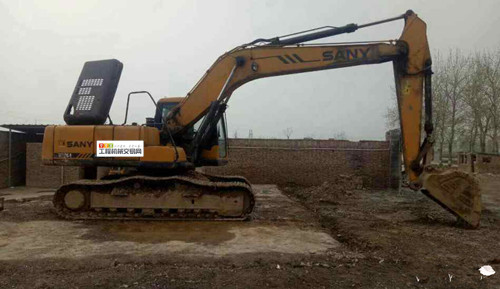excavator: (46, 9, 489, 235)
